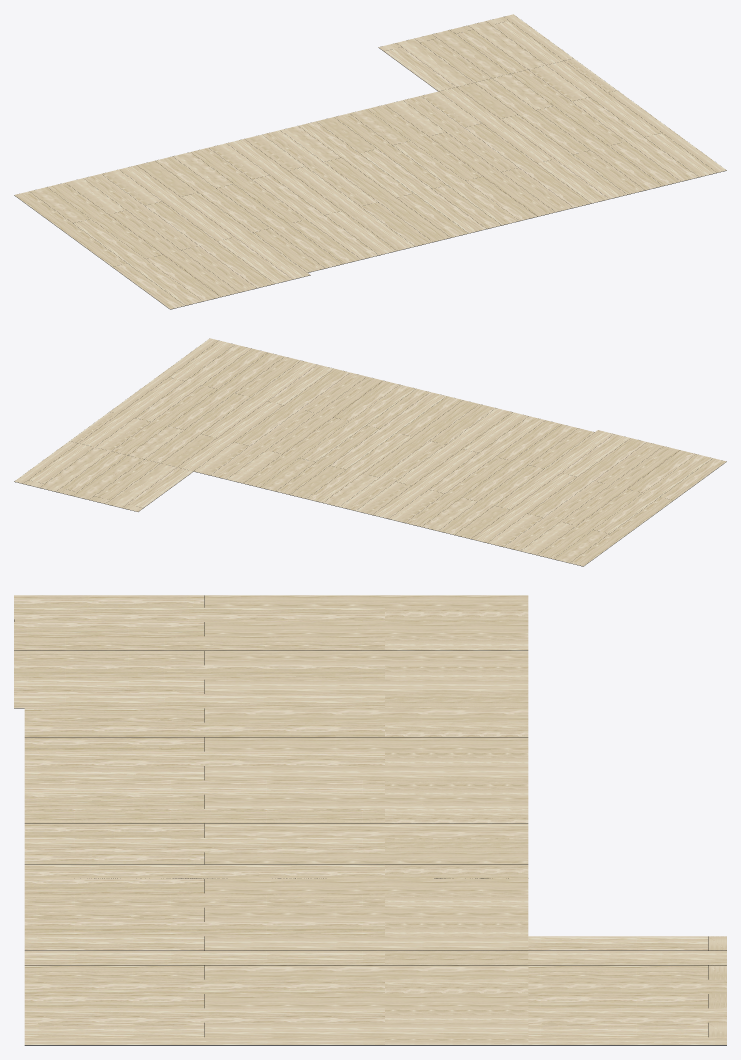
Rendered from SM_RM2_Vinyl_Floor_1.fbx.
The picture shows the model from 3 angles, top to bottom: view 1: azimuth 30°, elevation 25°; view 2: azimuth 150°, elevation 25°; view 3: azimuth 270°, elevation 25°; orthographic projection. The views are drawn at different scales.
Visible parts, largest first — view 1: SM_RM2_Vinyl_Floor_1; view 2: SM_RM2_Vinyl_Floor_1; view 3: SM_RM2_Vinyl_Floor_1.
Boxes of the visible parts, x1=… form: SM_RM2_Vinyl_Floor_1: x1=14, y1=14, x2=726, y2=309; SM_RM2_Vinyl_Floor_1: x1=14, y1=338, x2=726, y2=566; SM_RM2_Vinyl_Floor_1: x1=14, y1=595, x2=726, y2=1045.
Bounding box in the file's own units: 450 × 0.2086 × 302.
